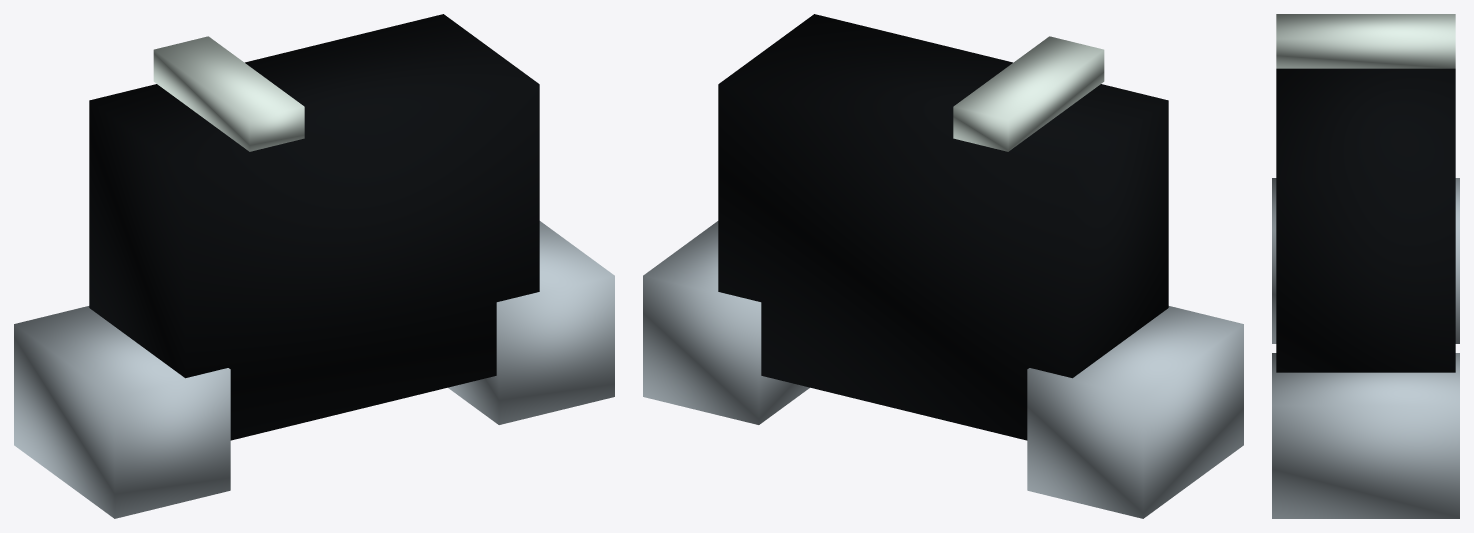
The model's file is 21_L94_D1_InputSchottkySMA.fbx.
The picture shows the model from 3 angles, left to right: view 1: azimuth 30°, elevation 25°; view 2: azimuth 150°, elevation 25°; view 3: azimuth 270°, elevation 25°; orthographic projection. The views are drawn at different scales.
Visible parts, largest first — view 1: L94_InputSchottkySMA_Part_0000, L94_InputSchottkySMA_Part_0001, L94_InputSchottkySMA_Part_0002; view 2: L94_InputSchottkySMA_Part_0000, L94_InputSchottkySMA_Part_0001, L94_InputSchottkySMA_Part_0002; view 3: L94_InputSchottkySMA_Part_0000, L94_InputSchottkySMA_Part_0001, L94_InputSchottkySMA_Part_0002.
Boxes of the visible parts, box(x1,y1,x2,y2) form: L94_InputSchottkySMA_Part_0000: box(89, 14, 539, 440); L94_InputSchottkySMA_Part_0001: box(14, 221, 614, 518); L94_InputSchottkySMA_Part_0002: box(153, 36, 304, 151); L94_InputSchottkySMA_Part_0000: box(718, 14, 1168, 440); L94_InputSchottkySMA_Part_0001: box(643, 221, 1243, 518); L94_InputSchottkySMA_Part_0002: box(953, 36, 1104, 151); L94_InputSchottkySMA_Part_0000: box(1276, 68, 1455, 372); L94_InputSchottkySMA_Part_0001: box(1272, 178, 1459, 518); L94_InputSchottkySMA_Part_0002: box(1276, 14, 1455, 68).
Bounding box in the file's own units: 8.2 × 5.7 × 2.86.
